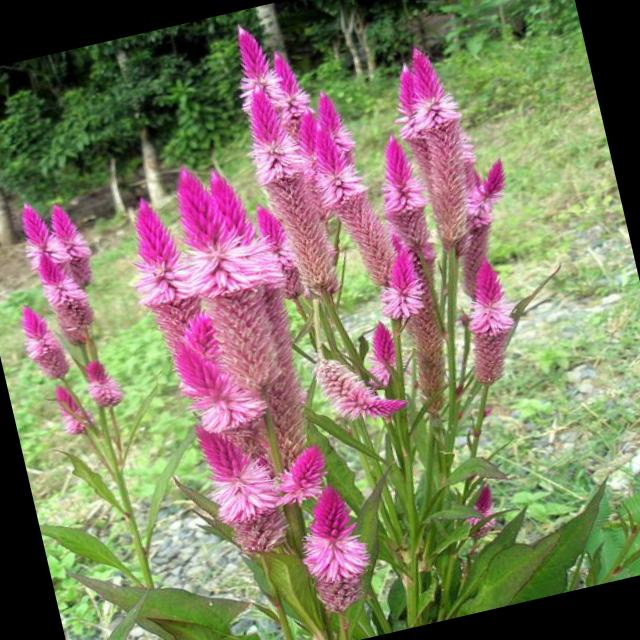Celosia-Argentea: (202, 0, 545, 450), (110, 142, 404, 640), (0, 177, 142, 458)
